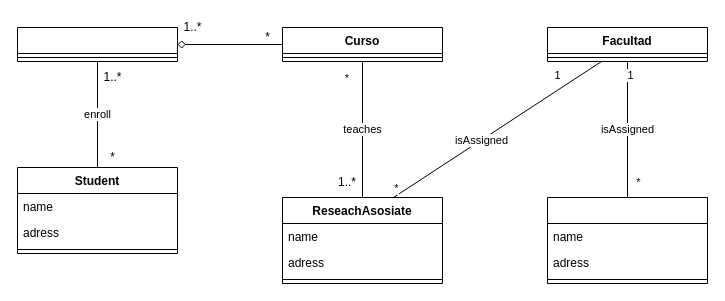
The diagram is 725 pixels wide and 301 high, and some of its shapes have lost their labels. The box of each missing label's shape, as (x1, y1, x2, y2) in pixels:
AdmistrativeEmployee: (546, 196, 708, 284)
StudyProgram: (16, 26, 178, 62)
